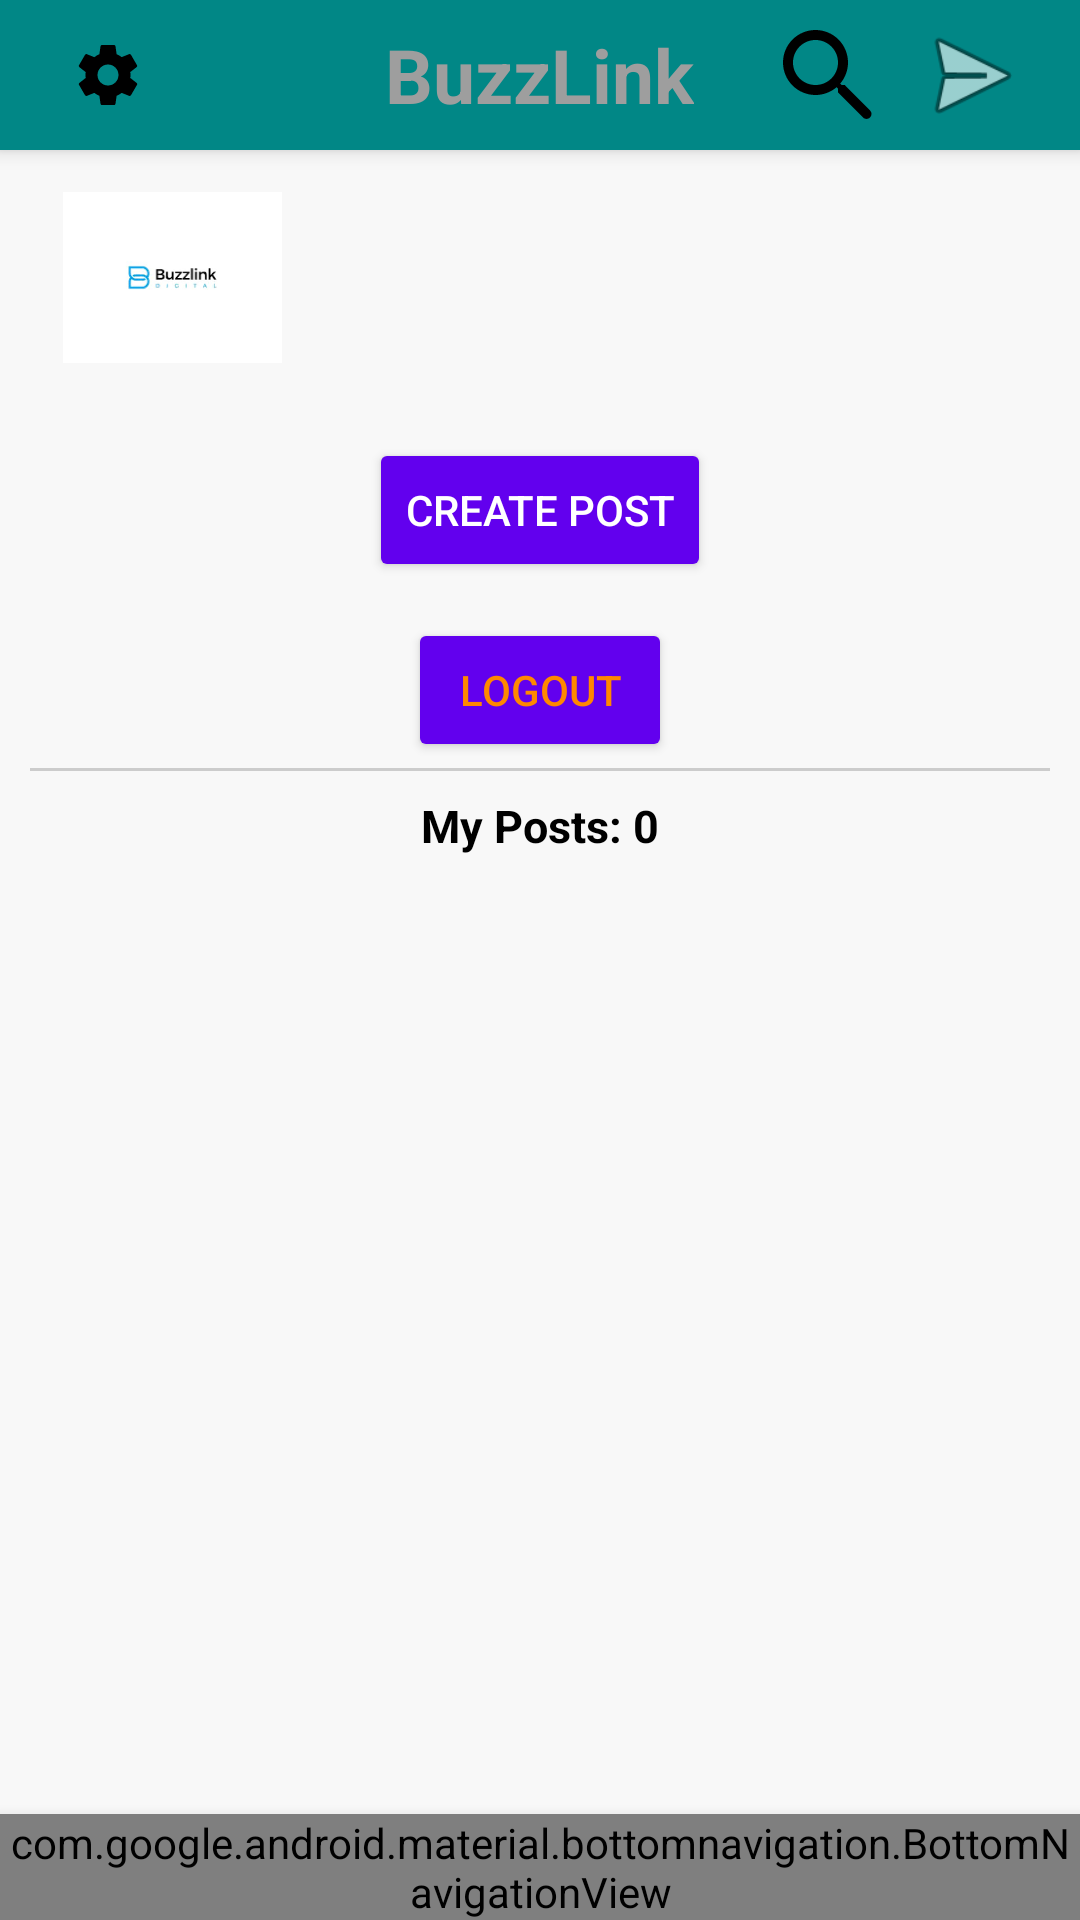

Named icons in this screenshot (1080 x 1920) and their bounding boxes, (x1, y1, x2, y2):
Search User: (783, 30, 872, 119)
Settings: (79, 45, 137, 105)
